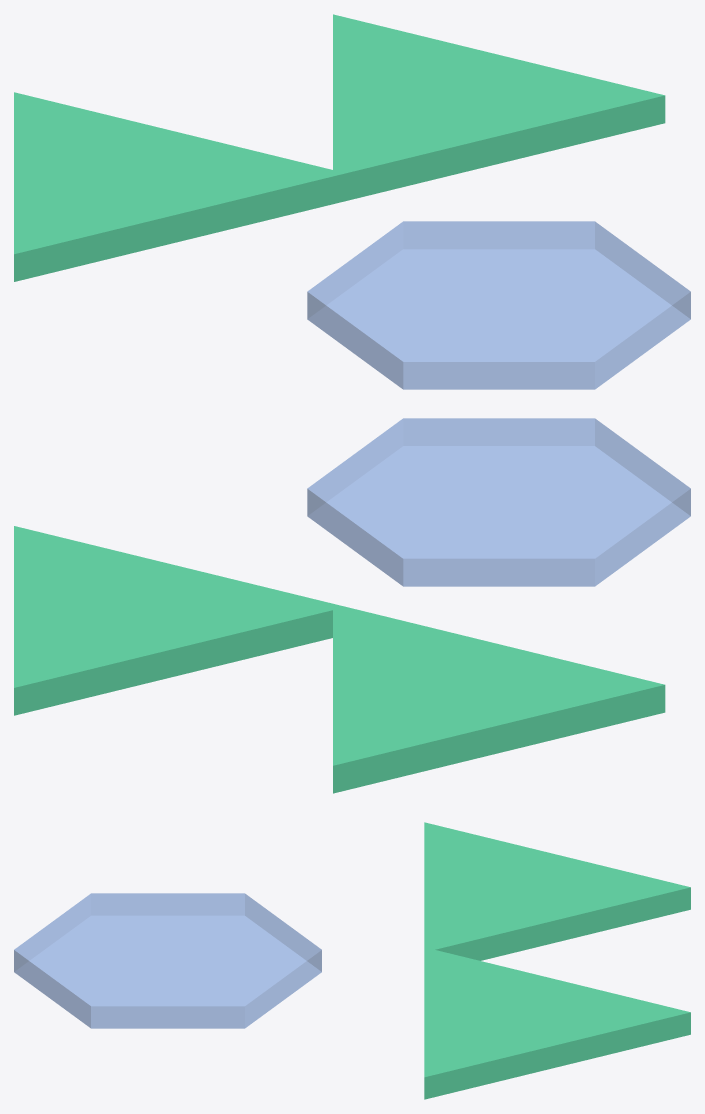
The model's file is stella_step3.glb.
3 renders of one model, top to bottom at view 1: azimuth 30°, elevation 25°; view 2: azimuth 150°, elevation 25°; view 3: azimuth 270°, elevation 25°, orthographic. The views are drawn at different scales.
Visible parts, largest first — view 1: esagono, triangolo_equilatero.001, triangolo_equilatero; view 2: esagono, triangolo_equilatero, triangolo_equilatero.001; view 3: esagono, triangolo_equilatero.001, triangolo_equilatero.
Part boxes in pixels (x1=…): esagono: x1=307, y1=221, x2=690, y2=389; triangolo_equilatero.001: x1=333, y1=14, x2=665, y2=204; triangolo_equilatero: x1=14, y1=92, x2=346, y2=281; esagono: x1=307, y1=418, x2=690, y2=586; triangolo_equilatero: x1=333, y1=604, x2=665, y2=793; triangolo_equilatero.001: x1=14, y1=526, x2=345, y2=715; esagono: x1=14, y1=893, x2=321, y2=1028; triangolo_equilatero.001: x1=424, y1=950, x2=690, y2=1099; triangolo_equilatero: x1=424, y1=822, x2=690, y2=960.
Bounding box in the file's own units: 1.96 × 0.08 × 2.2.
